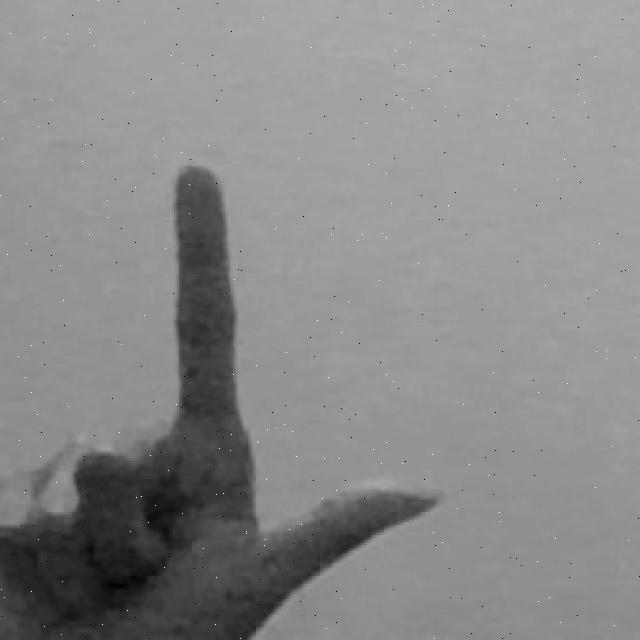L: (0, 158, 453, 640)
